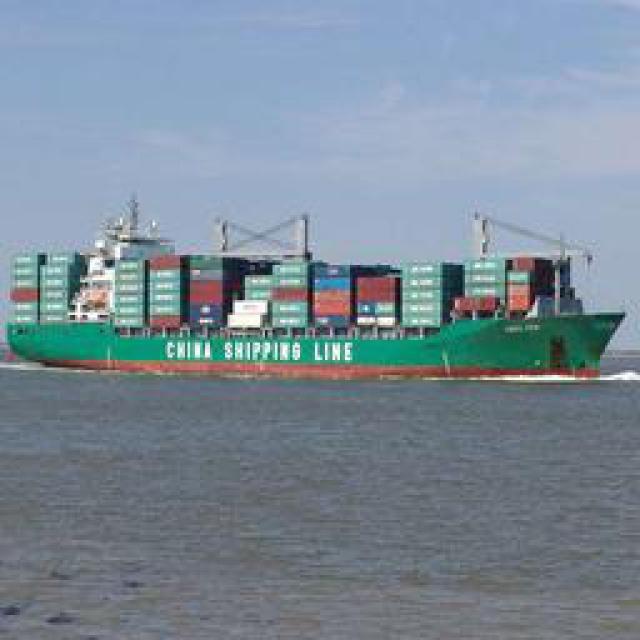Ship: (15, 201, 623, 384)
